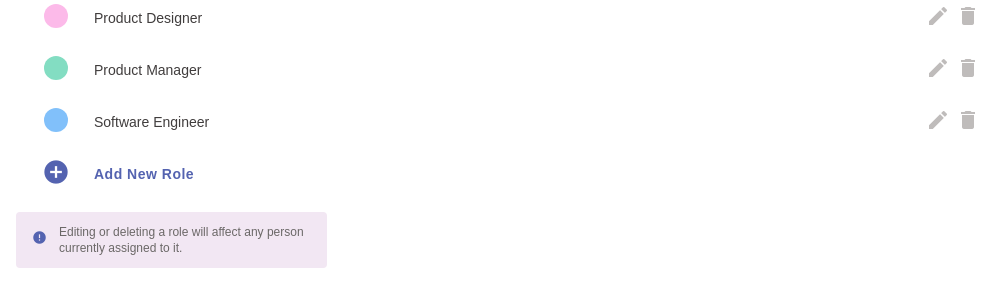
Test: My Roles Form › adding roles › should hide add new role section when you click on cancel
Click the text "Add New Role". click: (144, 174)
box: [94,166,194,182]
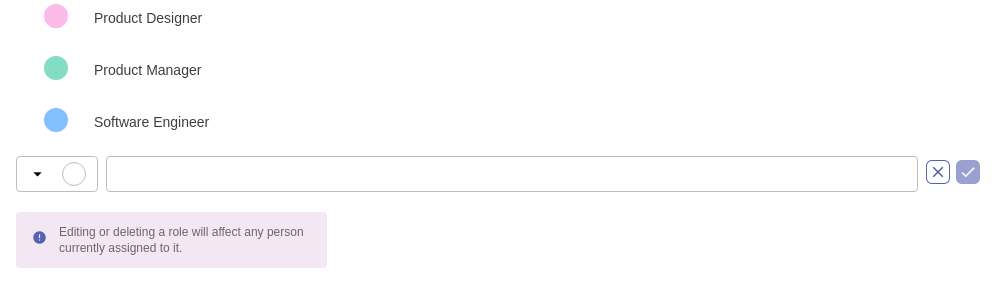
Click the button with test id "cancelTagButton". click: (938, 174)
box: [926,160,950,188]
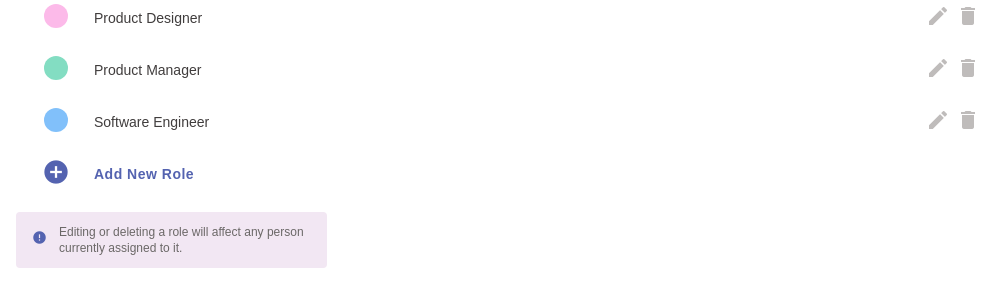
expect the text "Add New Role" is shown: met, box [94,166,194,182]
